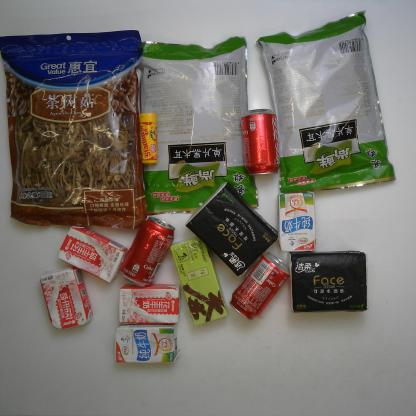Candy: (138, 112, 160, 164)
Dried Food: (0, 29, 148, 230), (255, 9, 397, 194), (138, 35, 260, 217)
Drink: (226, 252, 290, 322), (118, 215, 176, 288), (238, 107, 280, 177)
Instant Drink: (170, 237, 229, 327)
Milk: (56, 225, 128, 284), (38, 266, 94, 330), (118, 283, 182, 325), (114, 324, 181, 364), (274, 191, 316, 252)
Tissue: (183, 181, 281, 277), (286, 249, 370, 313)
